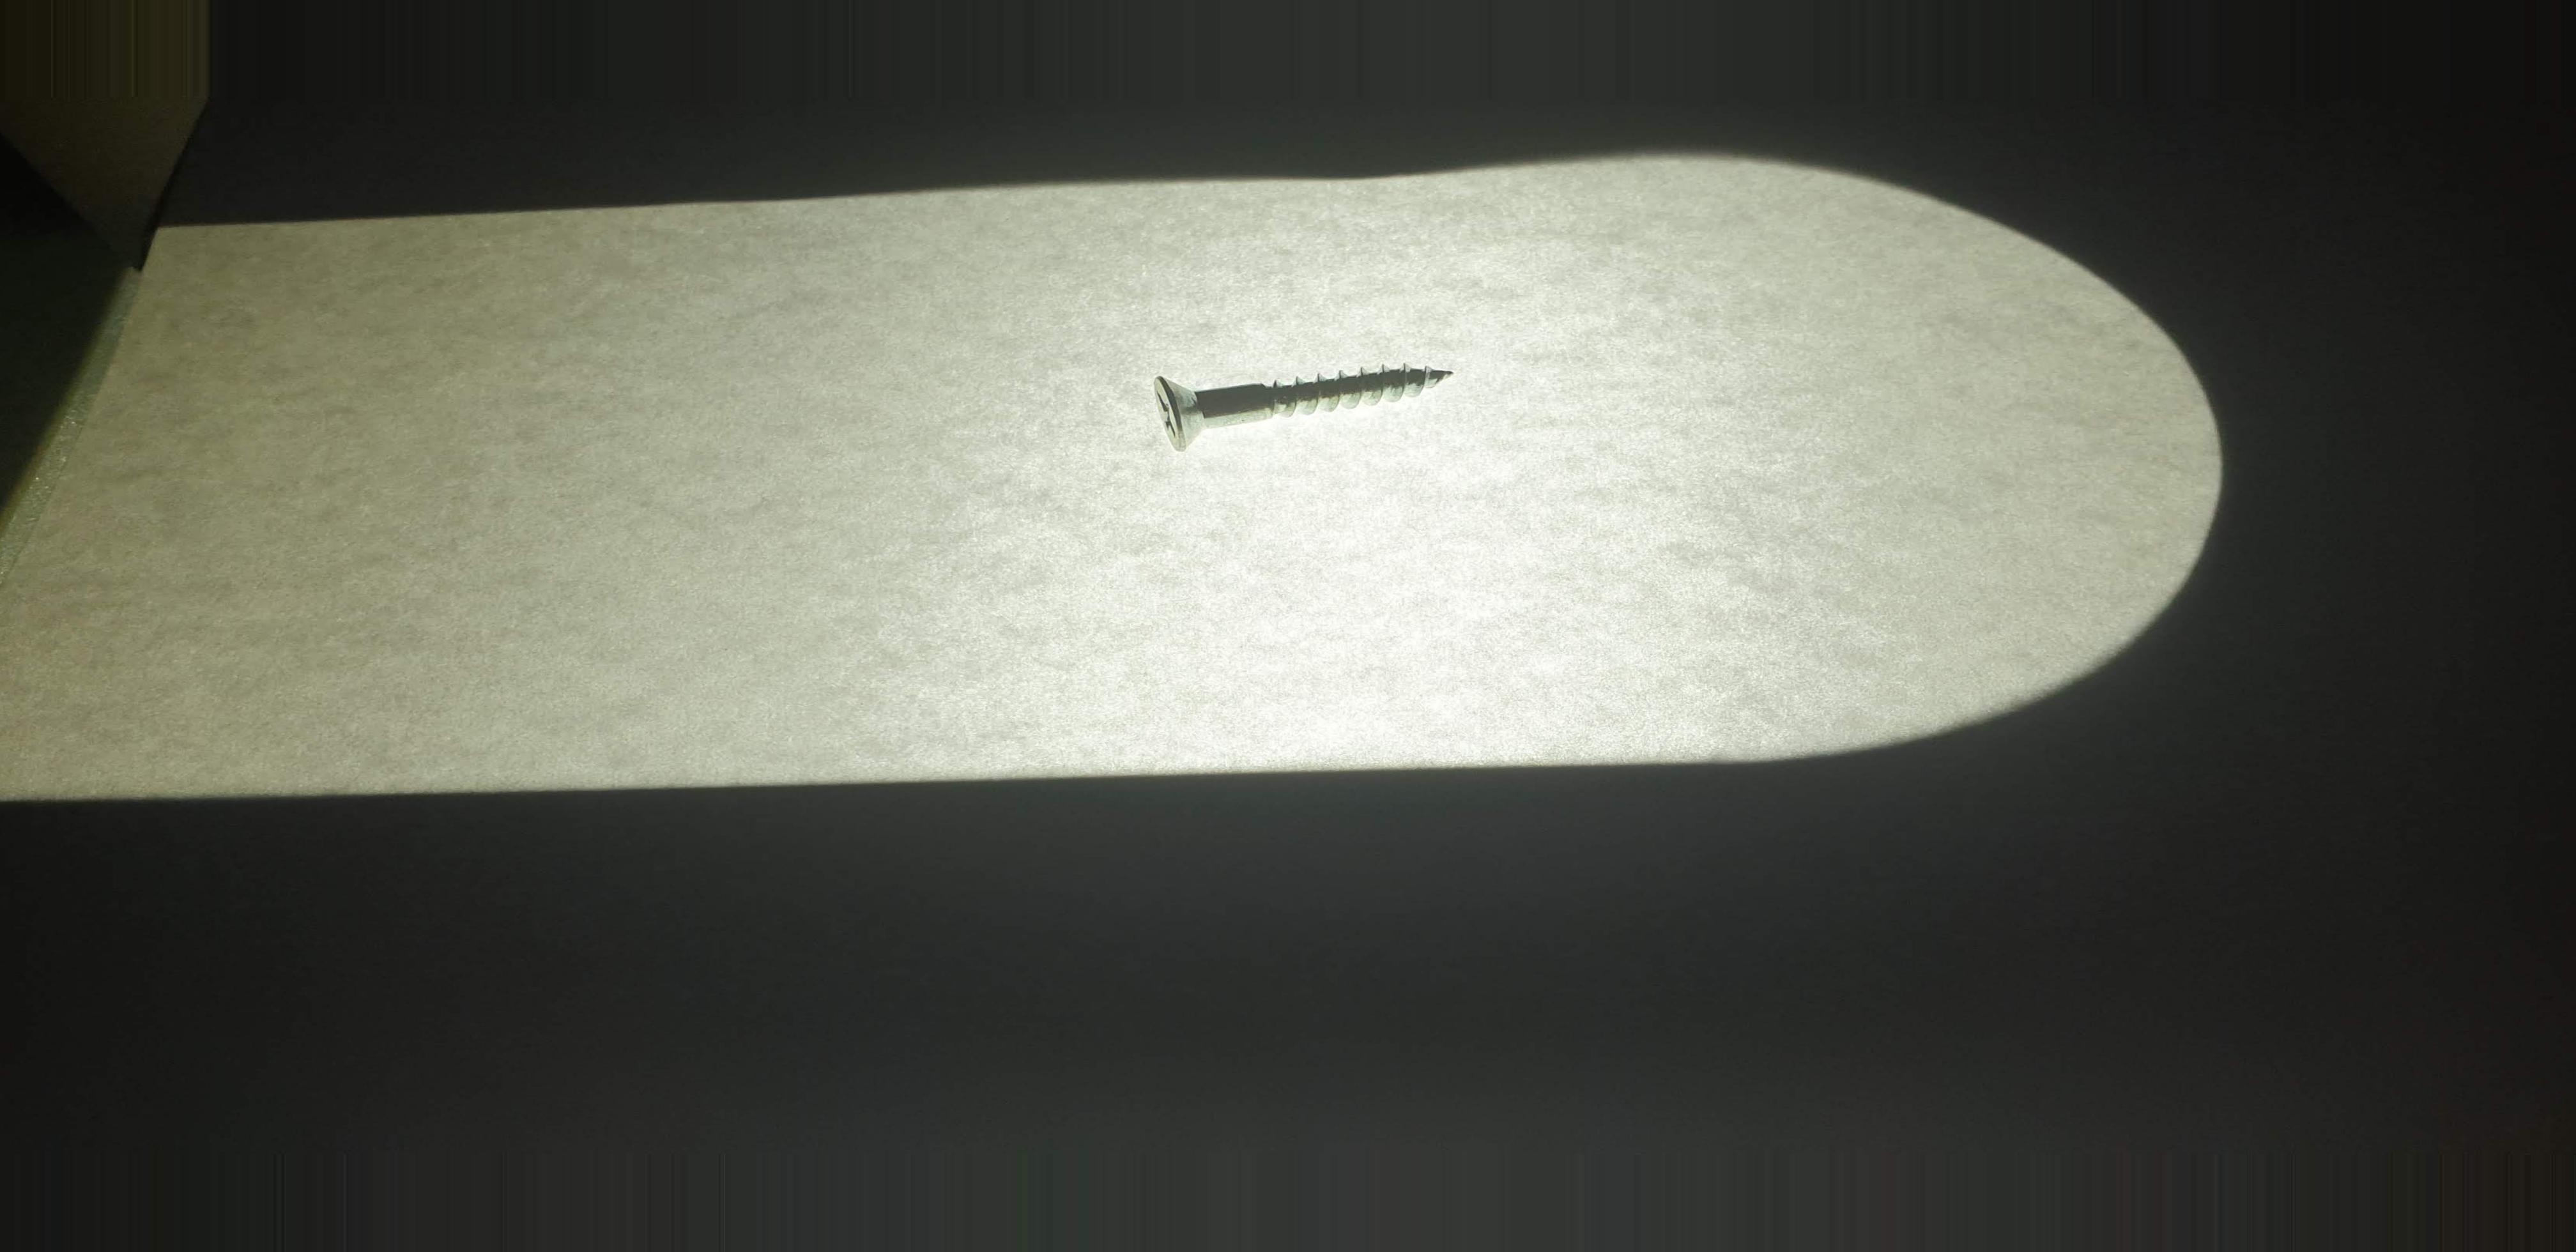S005: (1124, 322, 1529, 475)
